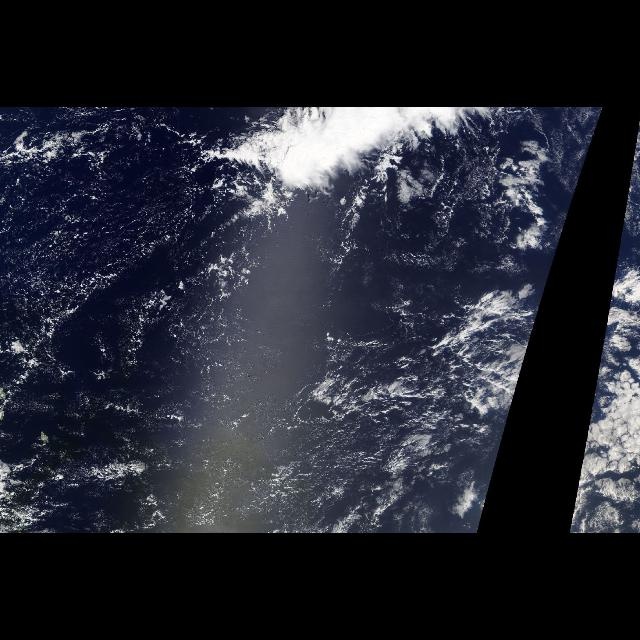Gravel: (5, 145, 253, 472)
Sugar: (1, 113, 198, 289)
